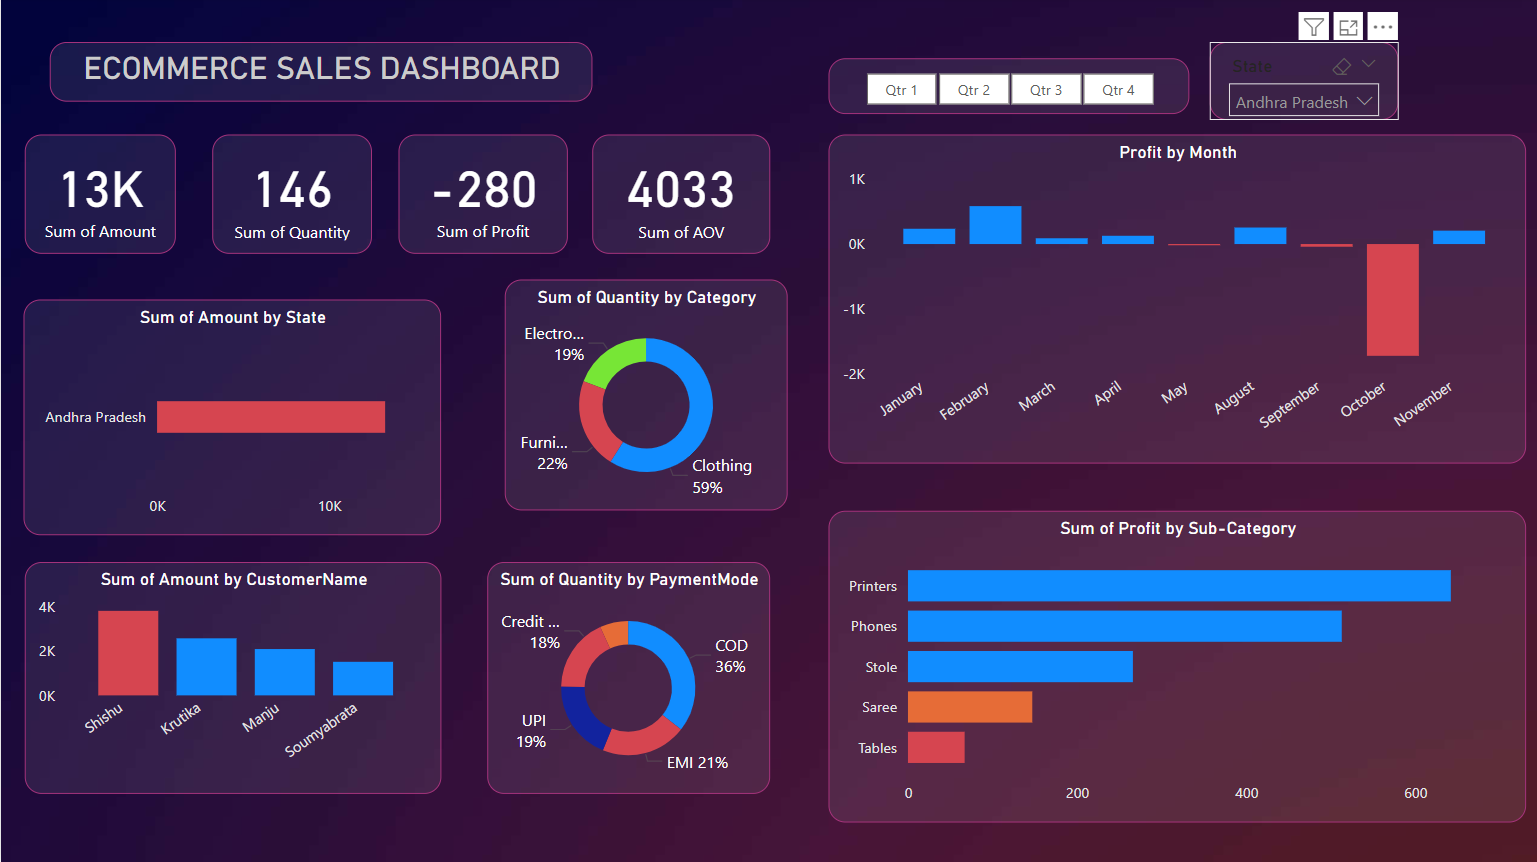

What the dashboard file says about the page in this screenshot:
{"tool":"powerbi","page":{"name":"Page 1","canvas":[1280,720],"ordinal":0},"visuals":[{"type":"columnChart","title":" Profit by Month","fields":{"Category":["Orders.Order Date.Variation.Date Hierarchy.Month"],"Y":["Sum(Details.Profit)"]},"box":[688.4,114,580.2,273.3],"z":0},{"type":"barChart","fields":{"Category":["Details.Sub-Category"],"Y":["Sum(Details.Profit)"]},"box":[688.4,426.7,580.2,259.3],"z":1000},{"type":"donutChart","fields":{"Category":["Details.Category"],"Y":["Sum(Details.Quantity)"]},"box":[418.6,234.9,234.9,191.9],"z":2000},{"type":"donutChart","fields":{"Y":["Sum(Details.Quantity)"],"Category":["Details.PaymentMode"]},"box":[404.7,469.8,234.9,193],"z":3000},{"type":"card","fields":{"Values":["Sum(Details.Amount)"]},"box":[19.8,114,125.6,98.8],"z":4000},{"type":"card","fields":{"Values":["Sum(Details.Quantity)"]},"box":[175.6,114,132.6,98.8],"z":5000},{"type":"card","fields":{"Values":["Sum(Details.Profit)"]},"box":[330.2,114,140.7,98.8],"z":6000},{"type":"card","fields":{"Values":["Sum(Details.AOV)"]},"box":[491.9,114,147.7,98.8],"z":7000},{"type":"barChart","fields":{"Category":["Orders.State"],"Y":["Sum(Details.Amount)"]},"box":[18.8,251,346.9,195.8],"z":8000},{"type":"columnChart","fields":{"Category":["Orders.CustomerName"],"Y":["Sum(Details.Amount)"]},"box":[19.8,469.8,346.5,193],"z":9000},{"type":"textbox","title":"ECOMMERCE SALES DASHBOARD","box":[40.5,37.4,451,49.9],"z":10000},{"type":"slicer","fields":{"Values":["Orders.Order Date.Variation.Date Hierarchy.Quarter"]},"box":[688.4,51.2,300,46.5],"z":11000},{"type":"slicer","fields":{"Values":["Orders.State"]},"box":[1005,37.4,156.9,64.4],"z":12000}]}

Visuals, with their boxes in screenshot pixels (x1, y1, x2, y2), scaled from the page's 1280x720 canvas onto the 1537x862 screenshot:
" Profit by Month" columnChart: bbox=[827, 136, 1523, 464]
barChart - Details.Sub-Category x Sum(Details.Profit): bbox=[827, 511, 1523, 821]
donutChart - Details.Category x Sum(Details.Quantity): bbox=[503, 281, 785, 511]
donutChart - Sum(Details.Quantity) x Details.PaymentMode: bbox=[486, 562, 768, 794]
card - Sum(Details.Amount): bbox=[24, 136, 175, 255]
card - Sum(Details.Quantity): bbox=[211, 136, 370, 255]
card - Sum(Details.Profit): bbox=[396, 136, 565, 255]
card - Sum(Details.AOV): bbox=[591, 136, 768, 255]
barChart - Orders.State x Sum(Details.Amount): bbox=[23, 301, 439, 535]
columnChart - Orders.CustomerName x Sum(Details.Amount): bbox=[24, 562, 440, 794]
"ECOMMERCE SALES DASHBOARD" textbox: bbox=[49, 45, 590, 105]
slicer - Orders.Order Date.Variation.Date Hierarchy.Quarter: bbox=[827, 61, 1187, 117]
slicer - Orders.State: bbox=[1207, 45, 1395, 122]
